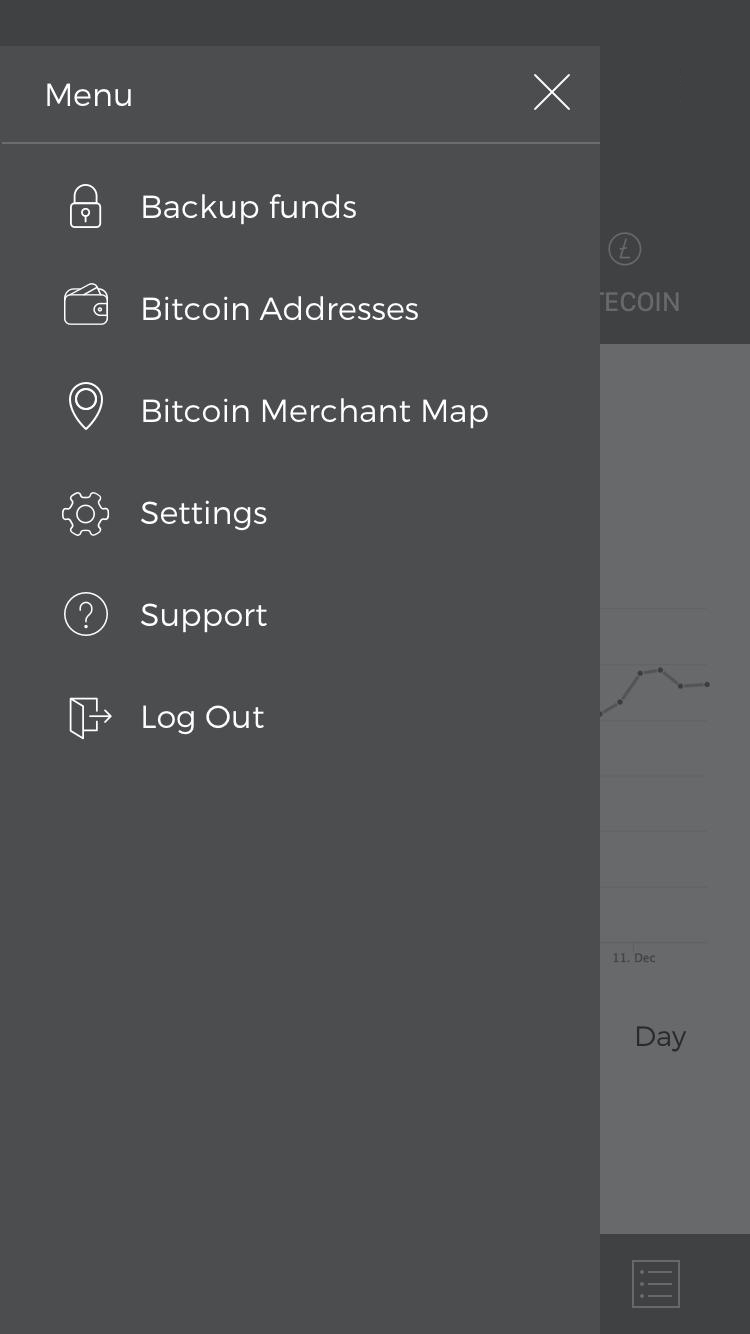Drawer: (1, 48, 601, 1334)
Icon: (63, 491, 111, 538), (64, 694, 112, 741), (64, 591, 110, 638), (64, 282, 110, 327), (530, 70, 575, 115), (69, 382, 105, 431), (70, 184, 103, 229)
Text: (144, 396, 489, 430), (142, 294, 420, 323), (141, 191, 357, 228), (138, 701, 267, 739), (142, 500, 269, 533), (141, 603, 269, 634), (48, 82, 133, 108)
